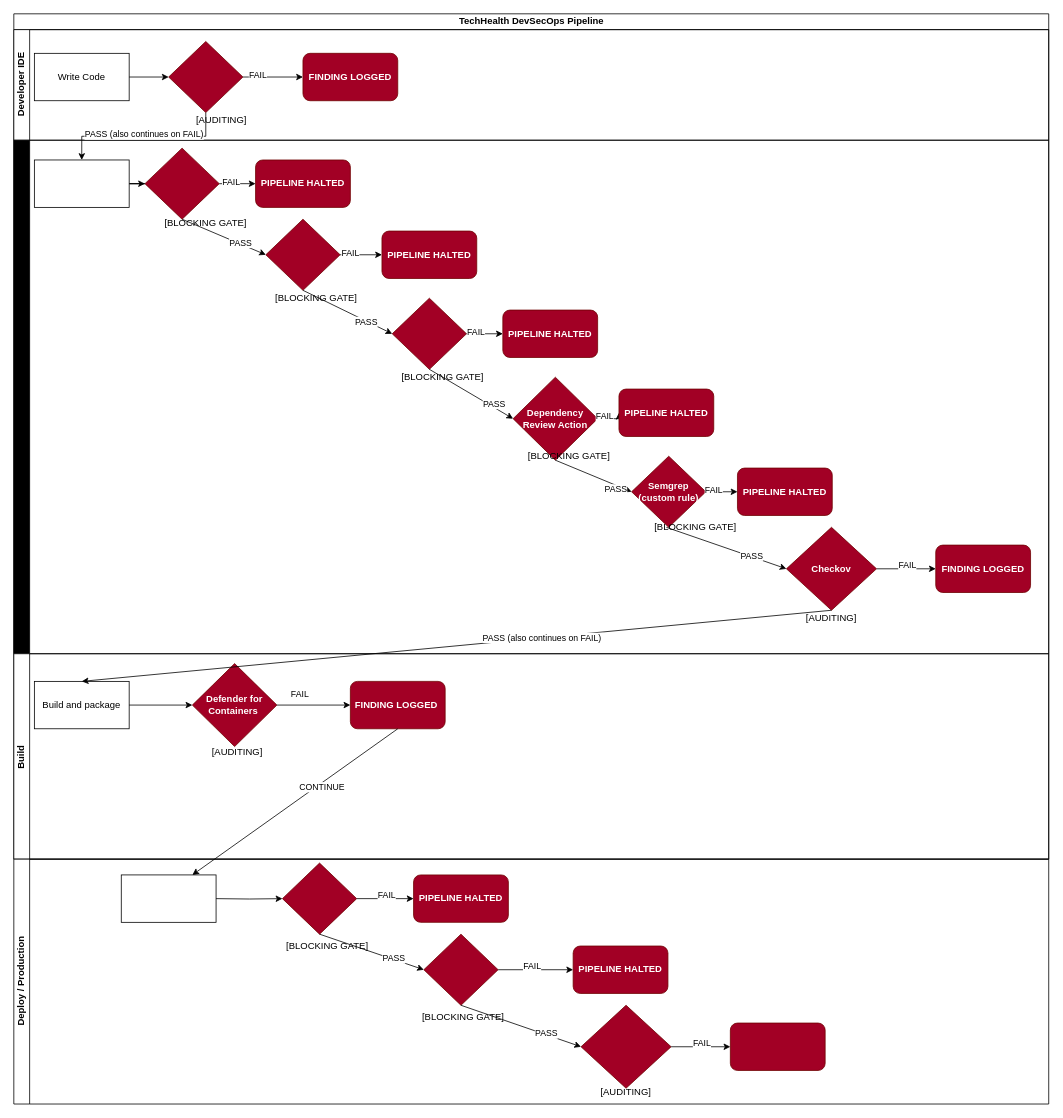
Image size: 1063x1118. Some labels were removed from this diagram. The centre of each missing label's shape, as x and y in pixels:
"Adversarial injection test" goes at (x=460, y=969).
"ALERT TRIAGED BY SECURITY" goes at (x=777, y=1046).
"CodeQL" goes at (x=428, y=333).
"DAST: OWASP ZAP" goes at (x=319, y=898).
"Deploy" goes at (x=168, y=898).
"GitHub Secret Planning" goes at (x=181, y=183).
"Open Pull Request" goes at (x=81, y=183).
"Runtime monitoring of generated SQL" goes at (x=625, y=1046).
"Snyk (IDE plugin)" goes at (x=205, y=77).
"Validate LLM routing" goes at (x=302, y=254).
